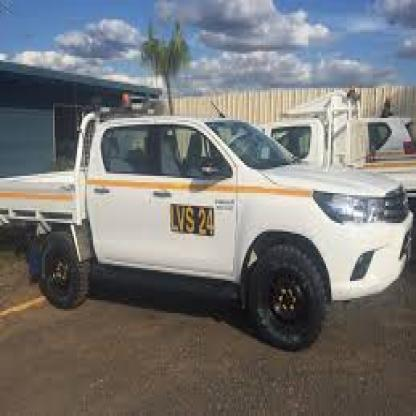light_vehicle: (0, 79, 414, 353)
